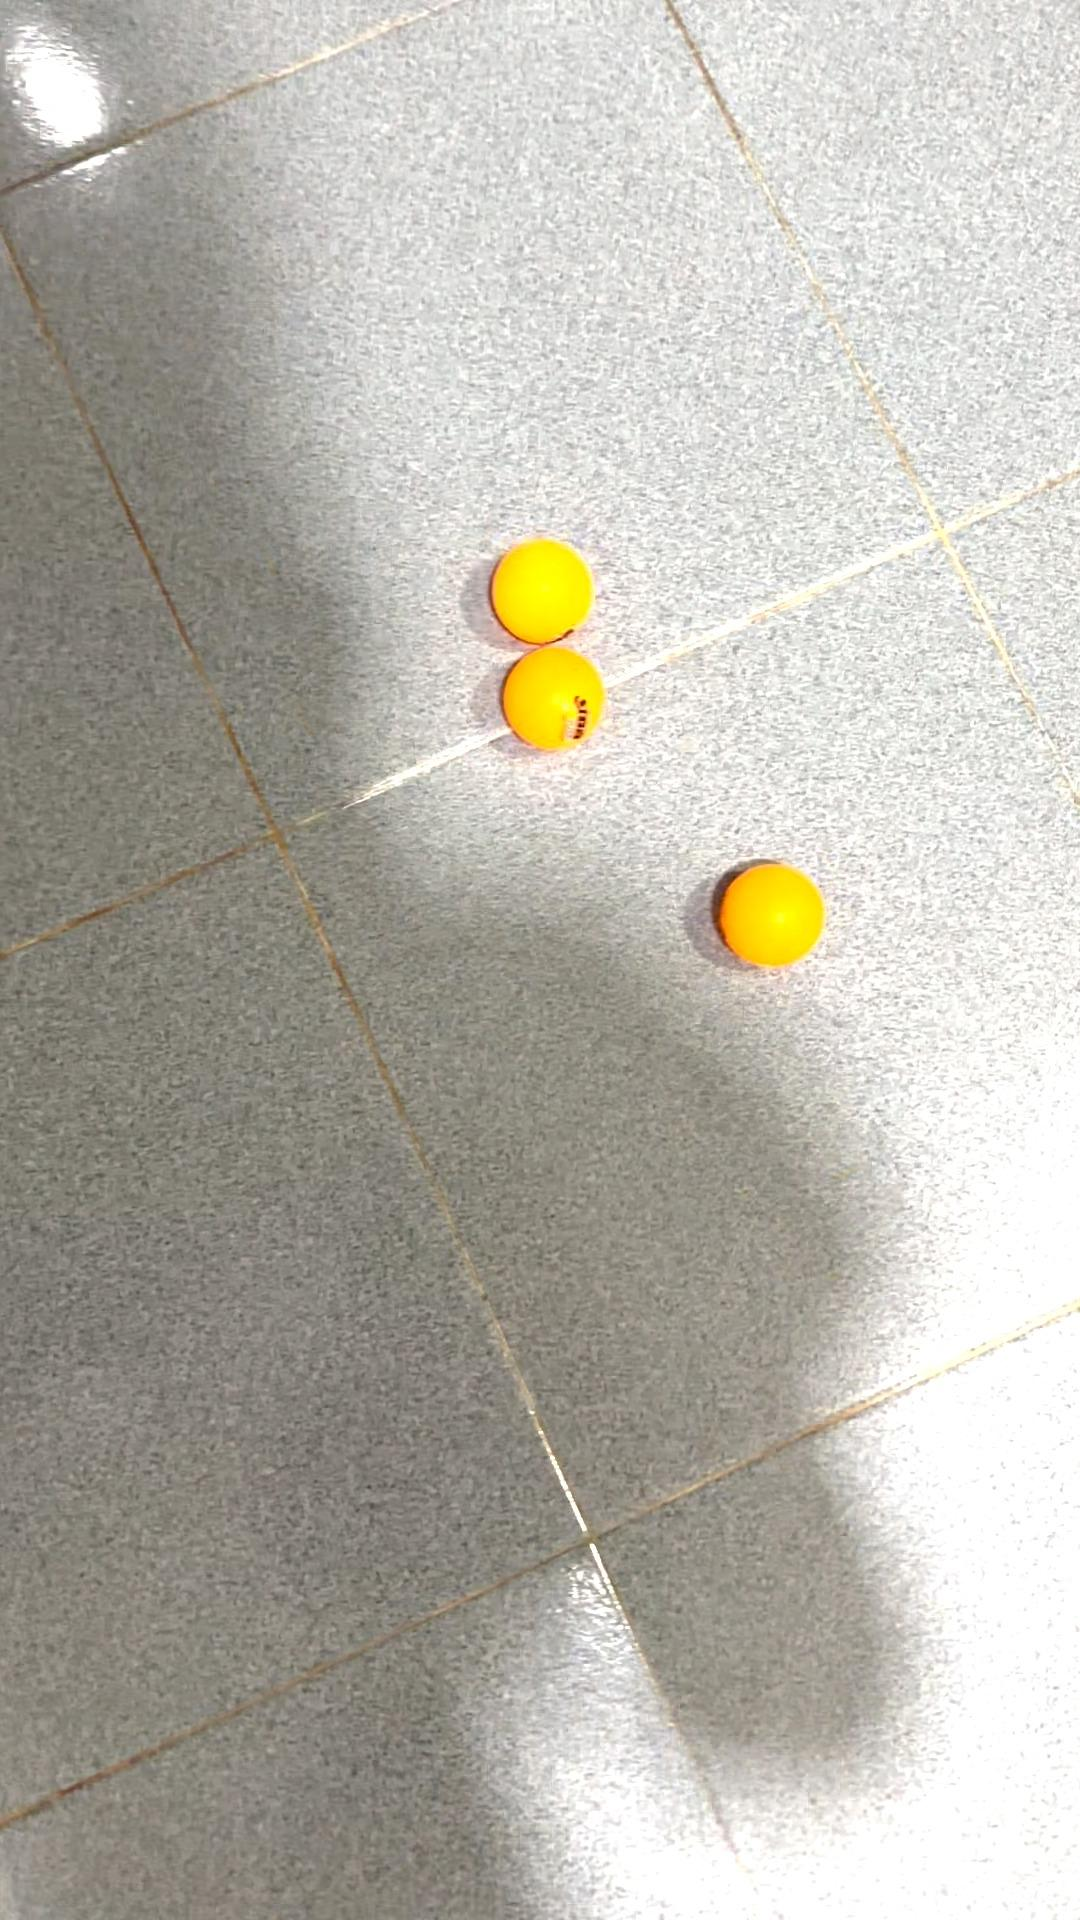oball: (705, 857, 833, 973), (481, 531, 604, 646), (501, 641, 613, 760)
